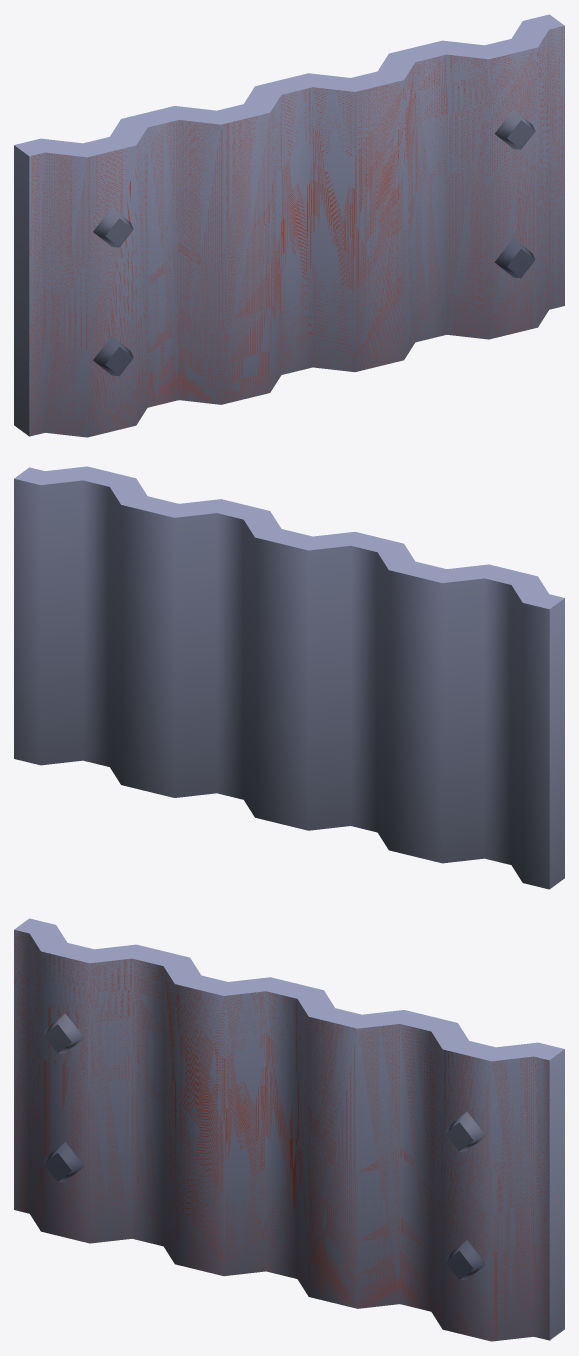
File: metal-panel-screws-half.glb
The picture shows the model from 3 angles, top to bottom: view 1: azimuth 30°, elevation 25°; view 2: azimuth 150°, elevation 25°; view 3: azimuth 330°, elevation 25°; orthographic projection.
Parts seen in each view (by area): view 1: metal-panel-screws-half; view 2: metal-panel-screws-half; view 3: metal-panel-screws-half.
Part boxes in pixels (x1,y1,x2,y2): metal-panel-screws-half: (14, 14, 564, 437); metal-panel-screws-half: (14, 466, 564, 889); metal-panel-screws-half: (14, 918, 564, 1341).
Bounding box in the file's own units: 0.5 × 0.25 × 0.0625.
